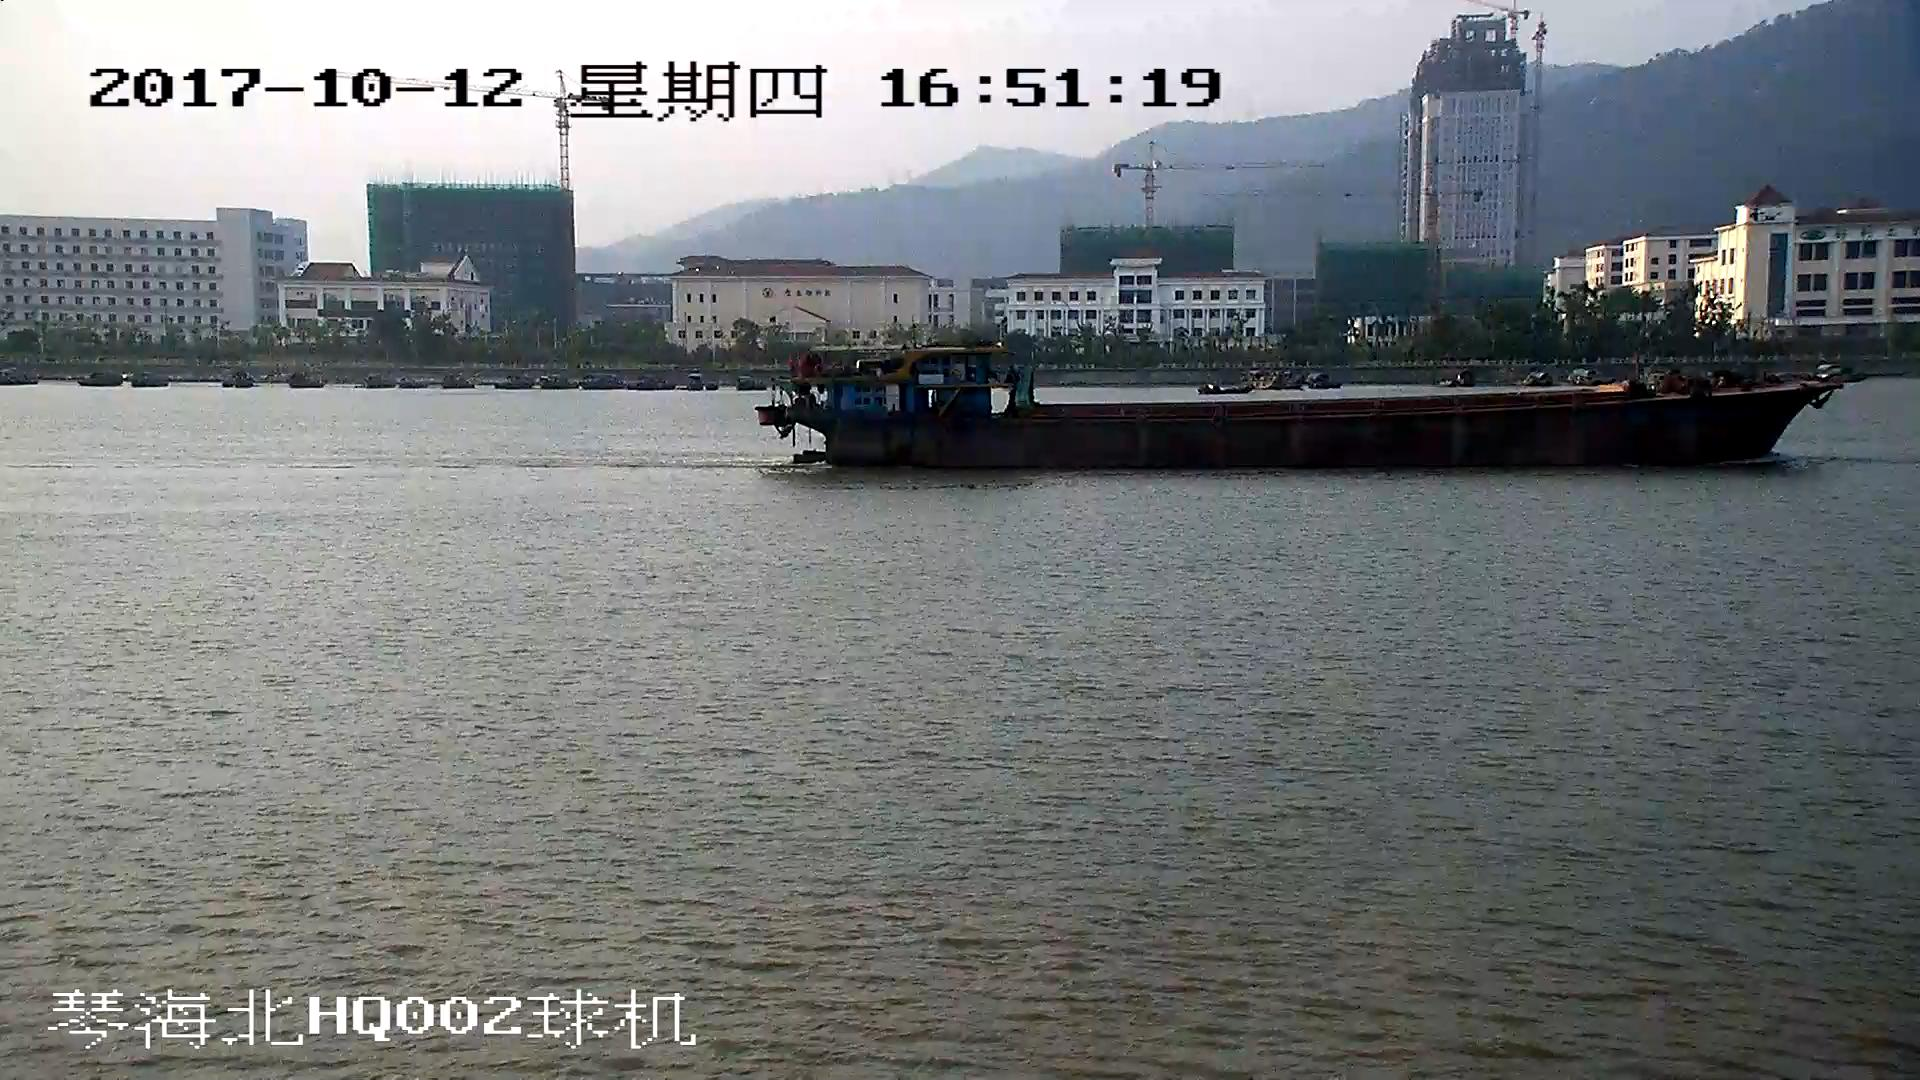bulk cargo carrier: (761, 345, 1843, 474)
